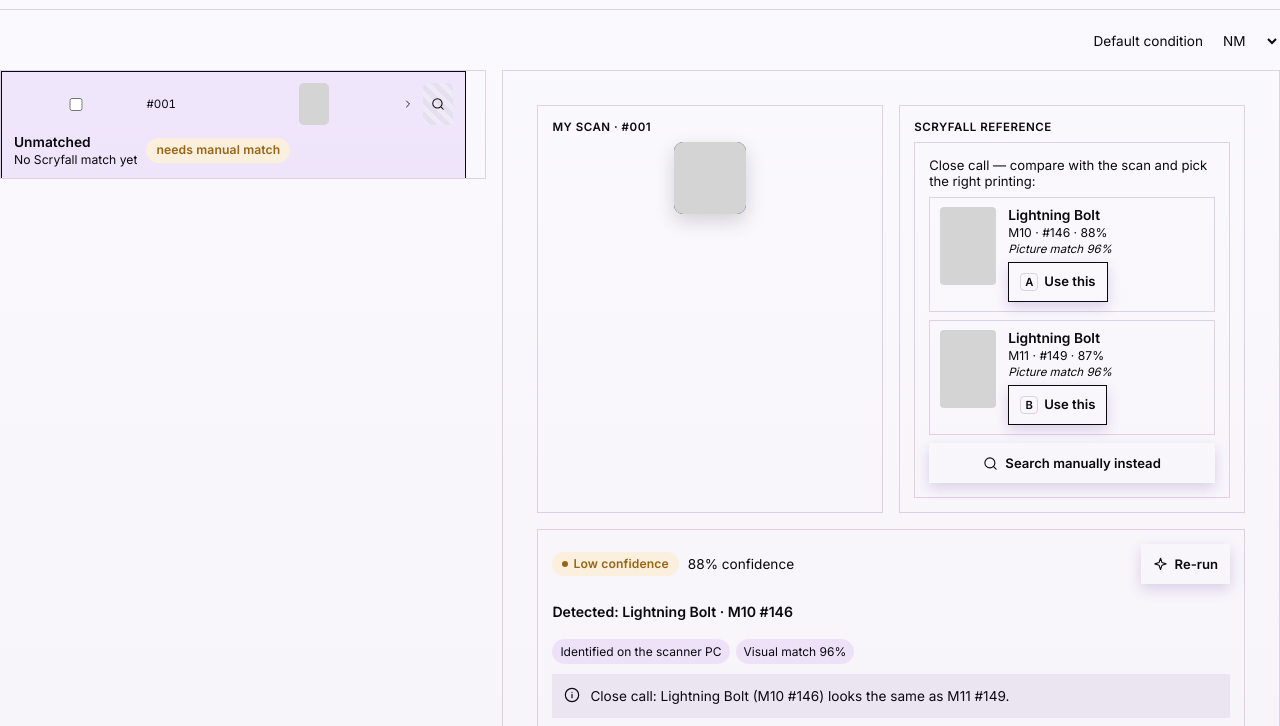
Test: Scan Review saves each card's changes in order › keeps a typed price when approving suggestion A
The width and height of the screenshot is (1280, 726).
Click the text "#001" at [163, 104], box left=146, top=97, right=180, bottom=111
(page scrolled)
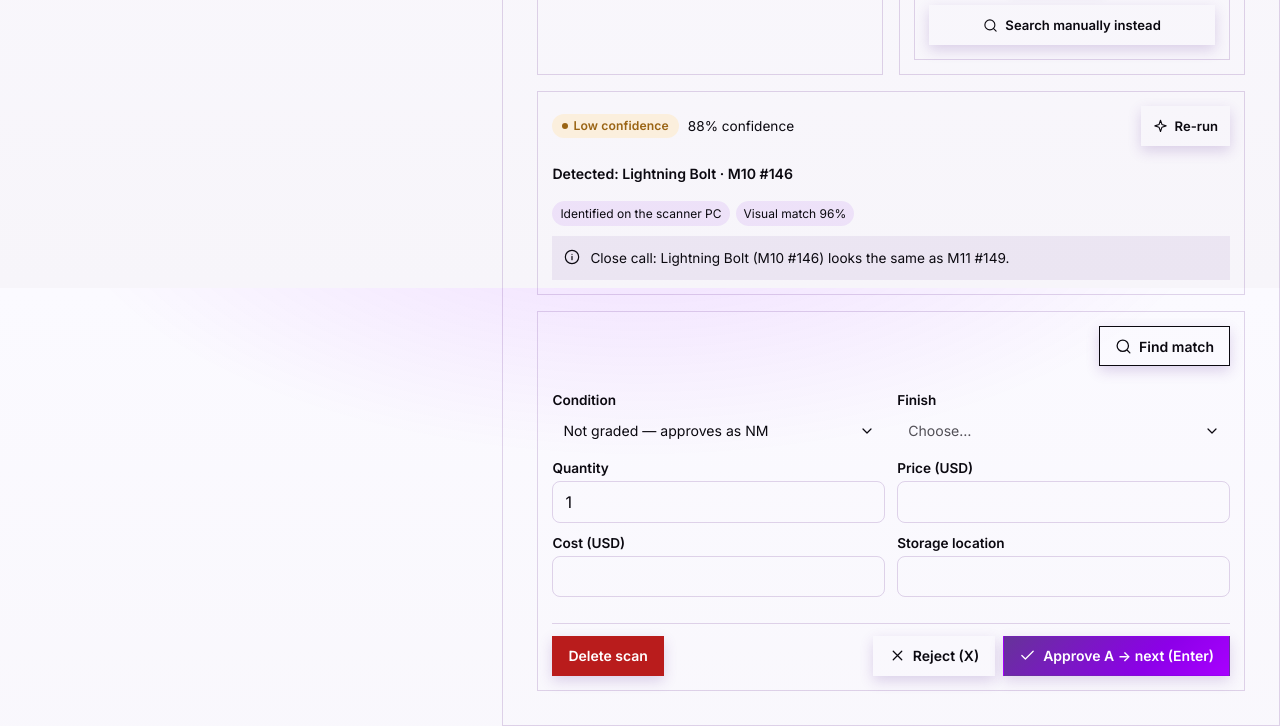
Type "7" into the number field labelled "Price (USD)" at [1064, 502], box left=897, top=481, right=1230, bottom=523
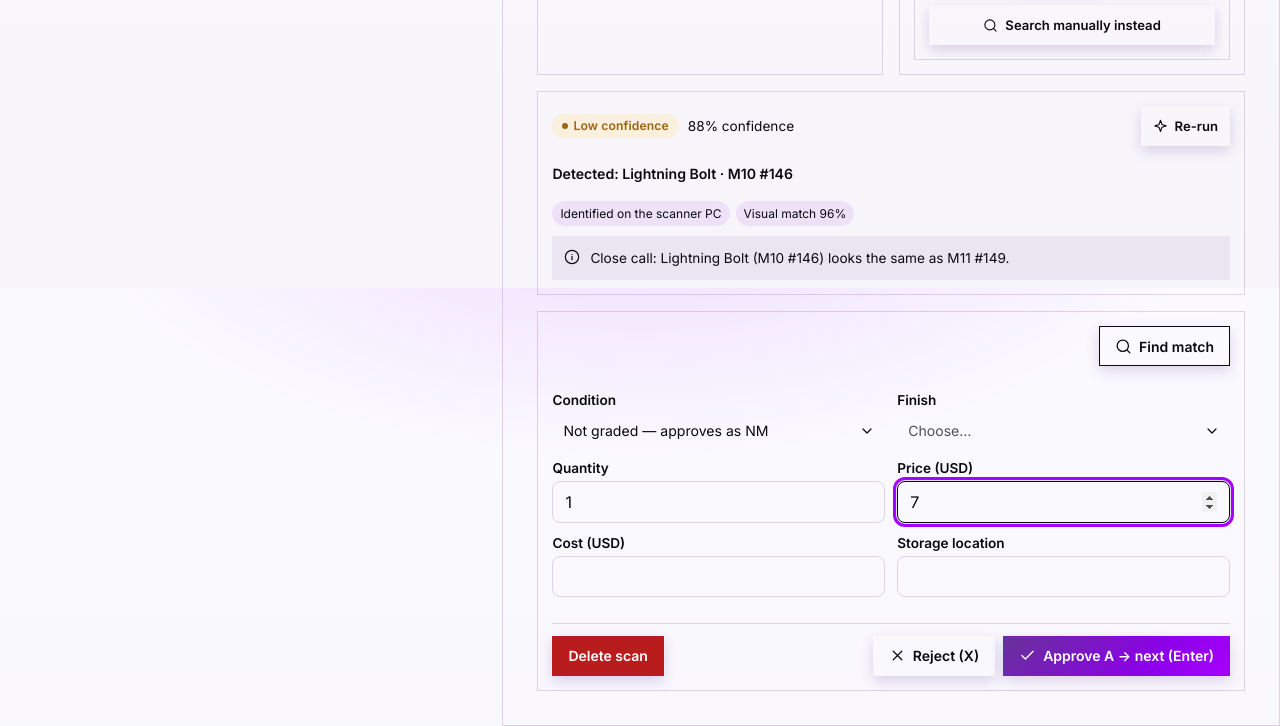
Click the button "Approve A → next (Enter)" at [1117, 656], box left=1003, top=636, right=1230, bottom=676
(page scrolled)
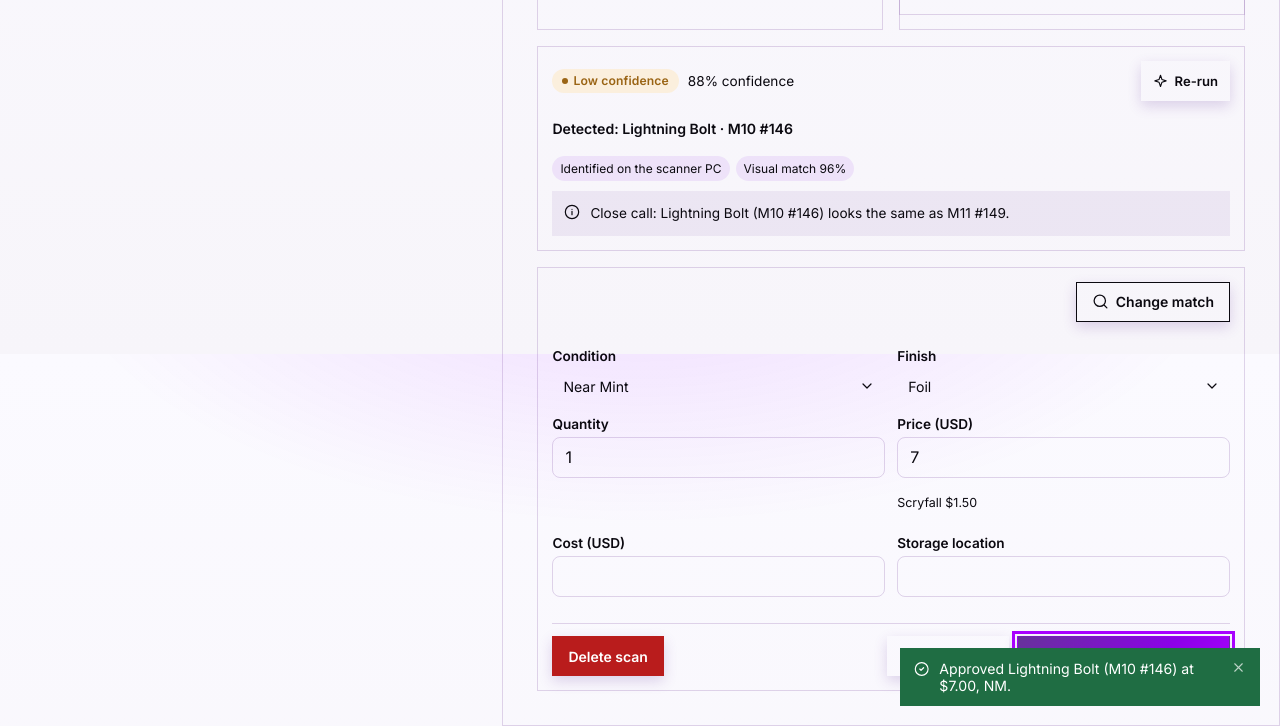
Now the text "Approved Lightning Bolt (M10 #146) at $7.00, NM." is shown, box left=939, top=660, right=1221, bottom=694
